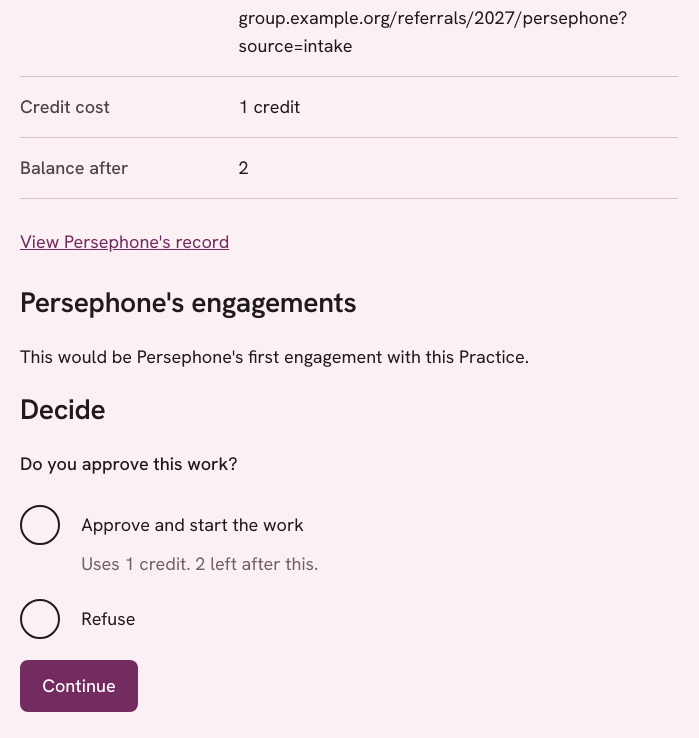
Test case: the approval screen › surfaces an endpoint refusal on approve as an error rather than a silent failure
This screenshot has width=699, height=738.
(page scrolled)
Click the radio button labelled "Approve and start the work": point(40, 525) 20,505 -> 60,545
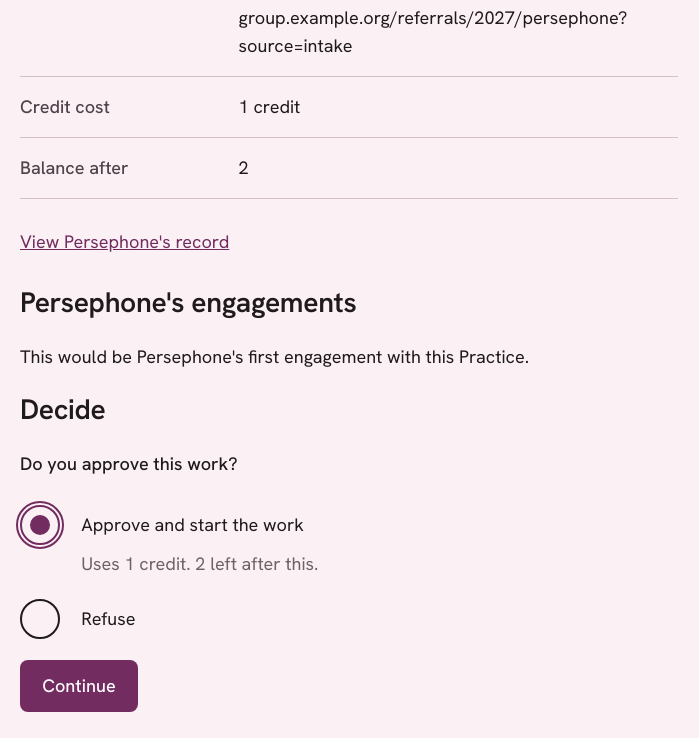
Click the button "Continue": point(79, 686) 20,660 -> 138,712
(page scrolled)
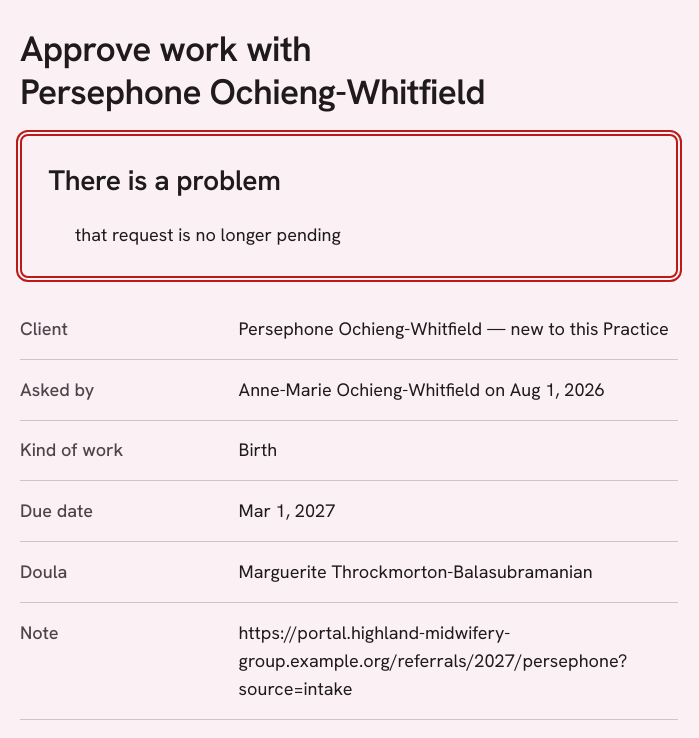
Result: the list item "that request is no longer pending" is shown at 75,223 -> 341,246
